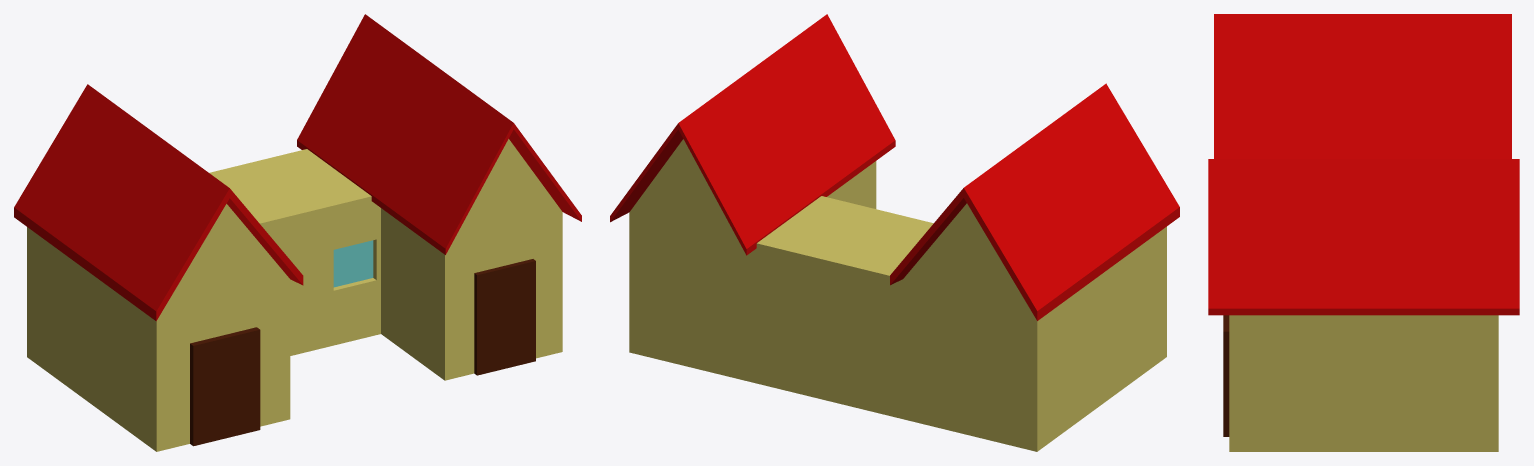
File: maisongrande.fbx
3 renders of one model, left to right at view 1: azimuth 30°, elevation 25°; view 2: azimuth 150°, elevation 25°; view 3: azimuth 270°, elevation 25°, orthographic. The views are drawn at different scales.
Parts seen in each view (by area): view 1: Cube; view 2: Cube; view 3: Cube.
Boxes of the visible parts, <box> form: Cube: <box>14,14,581,451</box>; Cube: <box>610,14,1179,451</box>; Cube: <box>1208,14,1519,451</box>.
Size of the model in its own units: 632 by 360 by 385.
